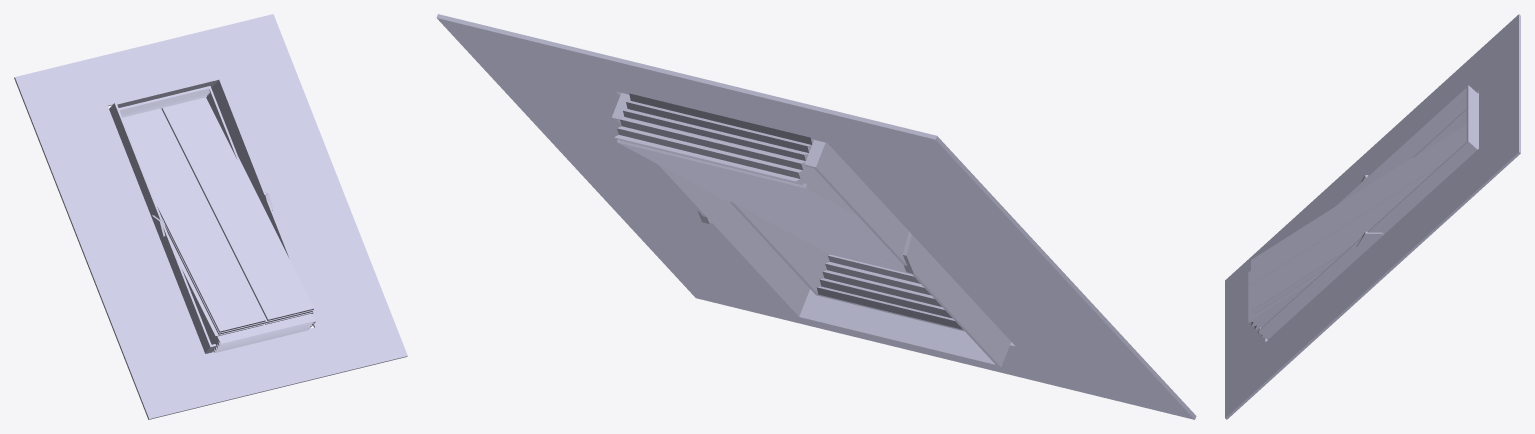
The model's file is RotateDock_035deg.glb.
The picture shows the model from 3 angles, left to right: view 1: azimuth 30°, elevation 25°; view 2: azimuth 150°, elevation 25°; view 3: azimuth 270°, elevation 25°; orthographic projection. The views are drawn at different scales.
Visible parts, largest first — view 1: copy_Body021, copy_LinkGroup004, copy_Body, copy_Body023, copy_Body022, copy_LinkGroup003; view 2: copy_Body021, copy_Body, copy_LinkGroup003, copy_Body022, copy_Body023, copy_Body002; view 3: copy_Body021, copy_LinkGroup004, copy_Body, copy_Body023, copy_Body022, copy_LinkGroup003, copy_Body001.
Boxes of the visible parts, left/top/right/bottom form: copy_Body021: left=14, top=14, right=407, bottom=419; copy_LinkGroup004: left=122, top=97, right=313, bottom=334; copy_Body: left=109, top=77, right=316, bottom=353; copy_Body023: left=186, top=281, right=314, bottom=352; copy_Body022: left=119, top=86, right=239, bottom=160; copy_LinkGroup003: left=168, top=235, right=313, bottom=337; copy_Body021: left=436, top=14, right=1196, bottom=419; copy_Body: left=612, top=93, right=1010, bottom=367; copy_LinkGroup003: left=617, top=139, right=911, bottom=274; copy_Body022: left=614, top=93, right=849, bottom=206; copy_Body023: left=730, top=202, right=964, bottom=331; copy_Body002: left=902, top=231, right=930, bottom=273; copy_Body021: left=1225, top=14, right=1520, bottom=419; copy_LinkGroup004: left=1251, top=124, right=1466, bottom=314; copy_Body: left=1258, top=85, right=1478, bottom=339; copy_Body023: left=1248, top=271, right=1301, bottom=337; copy_Body022: left=1413, top=109, right=1466, bottom=157; copy_LinkGroup003: left=1255, top=271, right=1323, bottom=318; copy_Body001: left=1356, top=231, right=1383, bottom=254.
Size of the model in its own units: 1.68 by 1.52 by 1.52.
